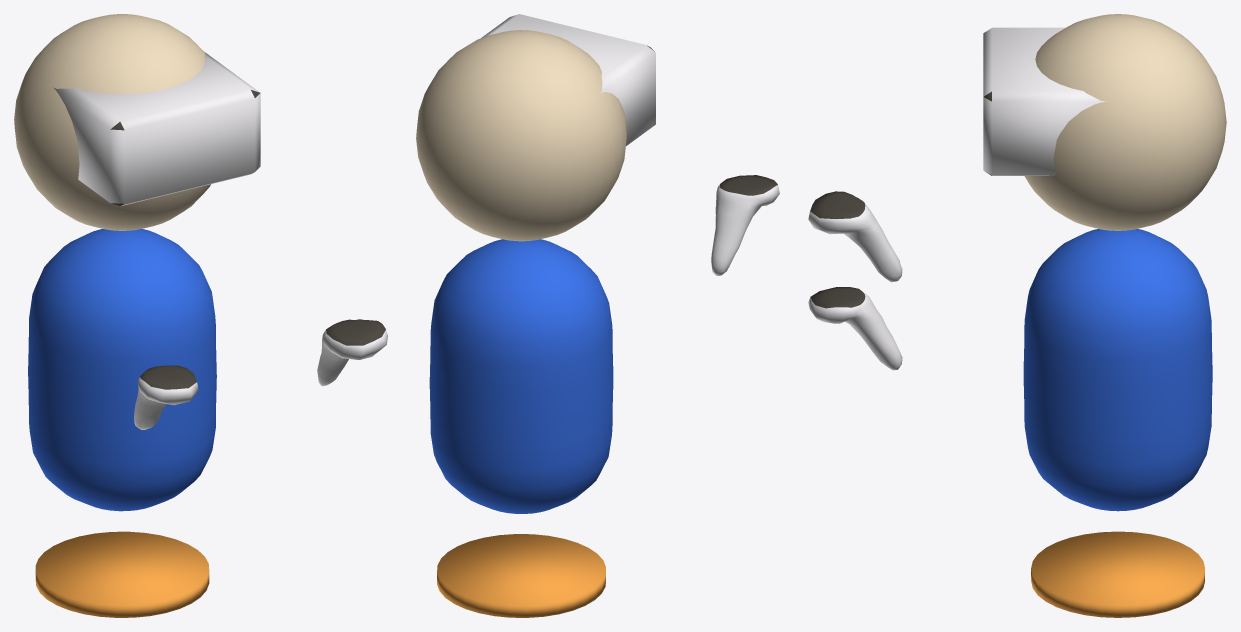
The model's file is WebXRSpaces-transformed.glb.
3 renders of one model, left to right at view 1: azimuth 30°, elevation 25°; view 2: azimuth 150°, elevation 25°; view 3: azimuth 270°, elevation 25°, orthographic. The views are drawn at different scales.
Visible parts, largest first — view 1: Dude; view 2: Dude; view 3: Dude.
Boxes of the visible parts, x1,y1,x2,y2 form: Dude: [14, 14, 387, 617]; Dude: [416, 14, 779, 617]; Dude: [808, 14, 1226, 617].
Bounding box in the file's own units: 1.28 × 2.81 × 1.91.
1 material, 1 textured.
